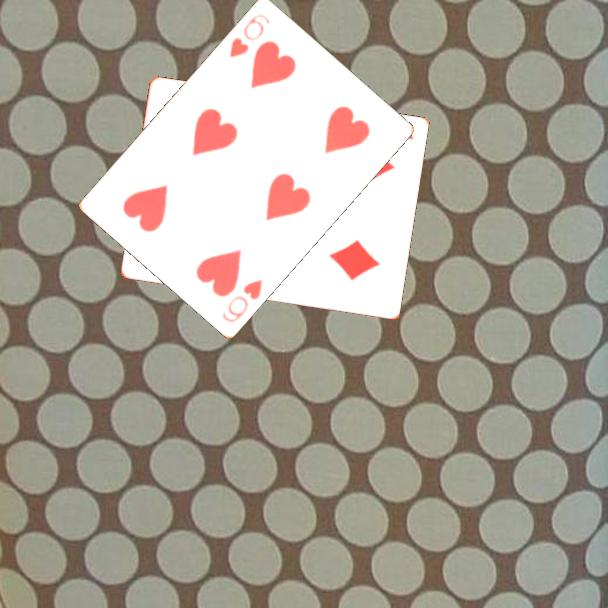h06: (218, 275, 265, 325), (226, 10, 272, 60)
